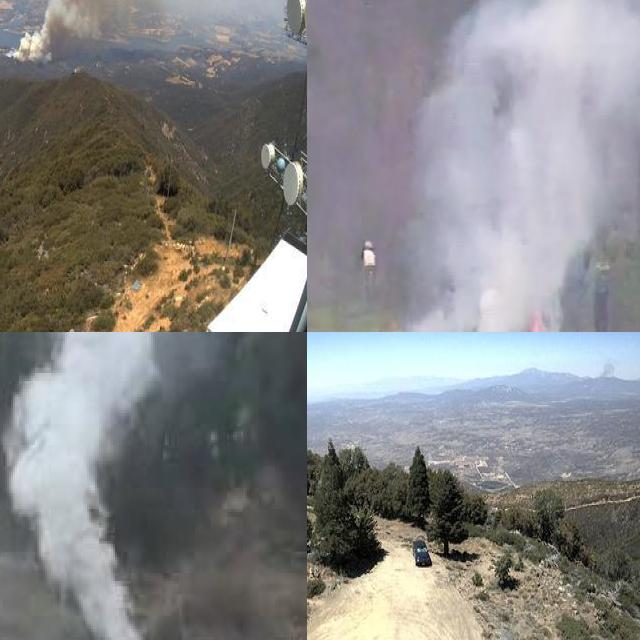fire: (513, 310, 544, 332)
smoke: (393, 0, 640, 332), (0, 332, 227, 640), (1, 0, 231, 66), (586, 353, 622, 385)
